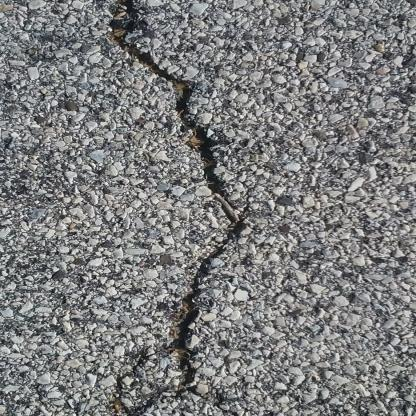Cracks: (29, 0, 249, 416)
